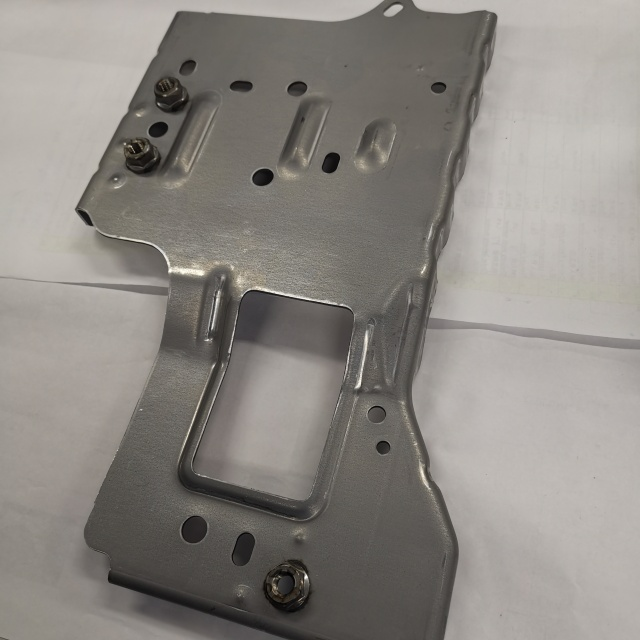dog: (261, 558, 317, 614), (122, 135, 164, 177), (152, 74, 191, 116)
